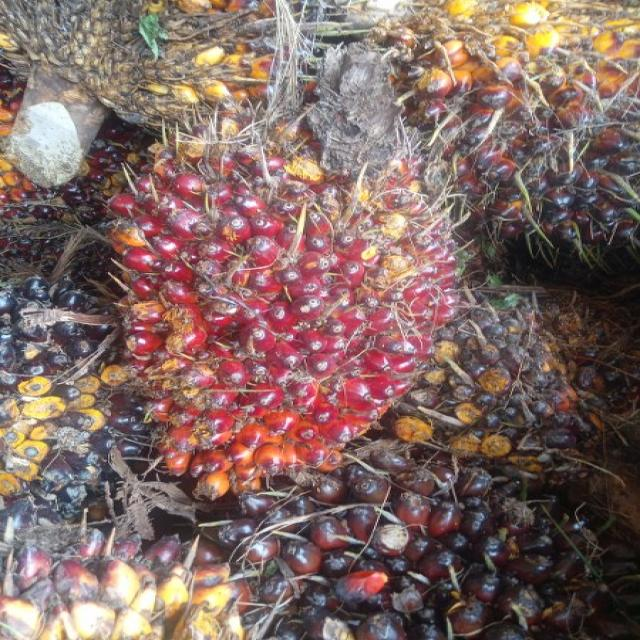fraksi 3: (46, 78, 529, 540)
